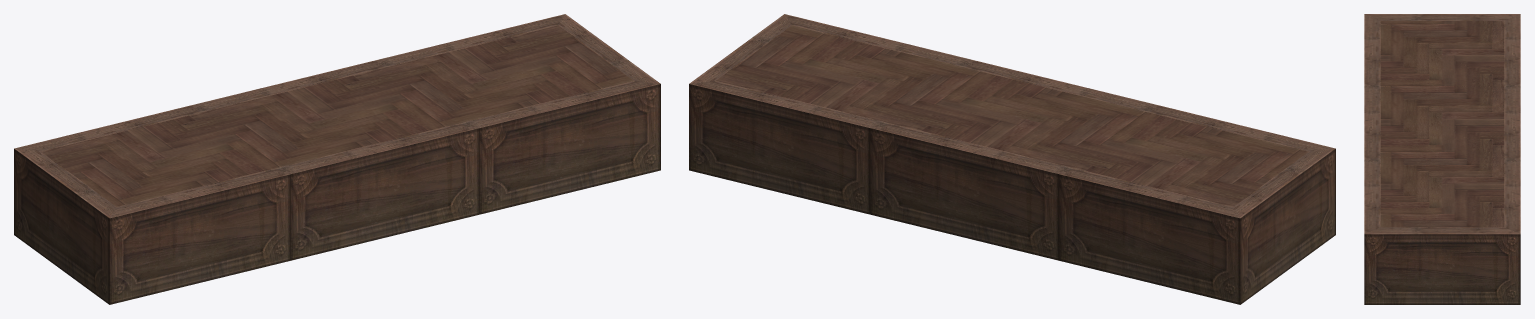
Rendered from bg_lut_lucastle_houseinstage01_sm_msj.FBX.
The picture shows the model from 3 angles, left to right: view 1: azimuth 30°, elevation 25°; view 2: azimuth 150°, elevation 25°; view 3: azimuth 270°, elevation 25°; orthographic projection. The views are drawn at different scales.
Visible parts, largest first — view 1: bg_lut_lucastle_houseinstage01_sm_msj; view 2: bg_lut_lucastle_houseinstage01_sm_msj; view 3: bg_lut_lucastle_houseinstage01_sm_msj.
Part boxes in pixels (x1,y1,x2,y2): bg_lut_lucastle_houseinstage01_sm_msj: [14, 14, 660, 304]; bg_lut_lucastle_houseinstage01_sm_msj: [689, 14, 1335, 304]; bg_lut_lucastle_houseinstage01_sm_msj: [1364, 14, 1520, 304].
Size of the model in its own units: 640 by 96 by 192.
